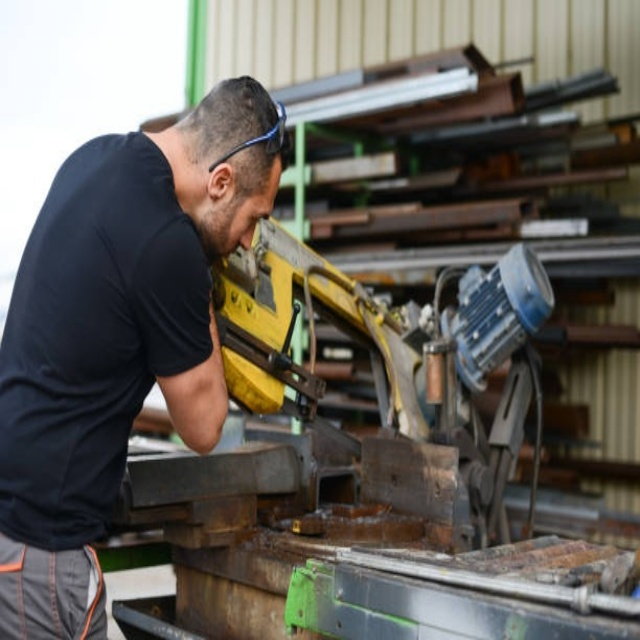Sin_gafas: (238, 198, 269, 232)
Sin_mascara: (210, 235, 252, 265)
